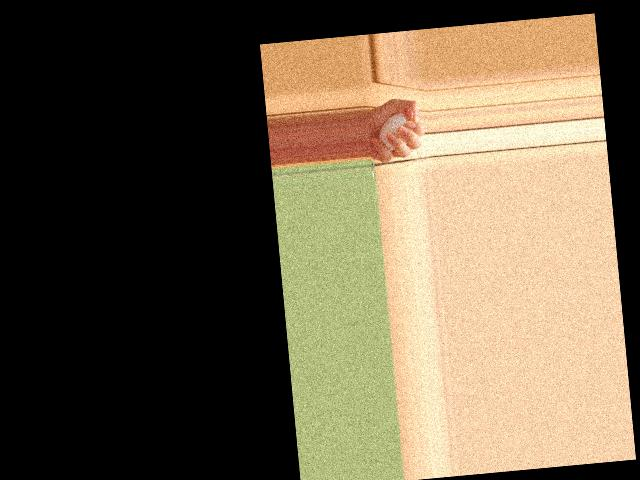egg: (376, 112, 410, 152)
